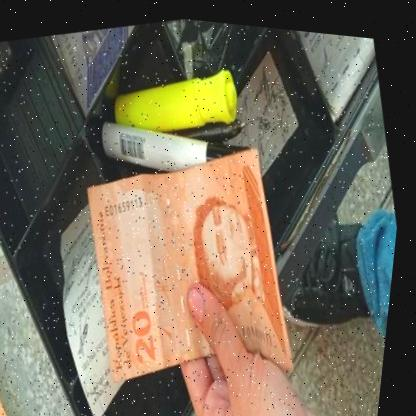twenty-front-vef: (68, 125, 321, 402)
